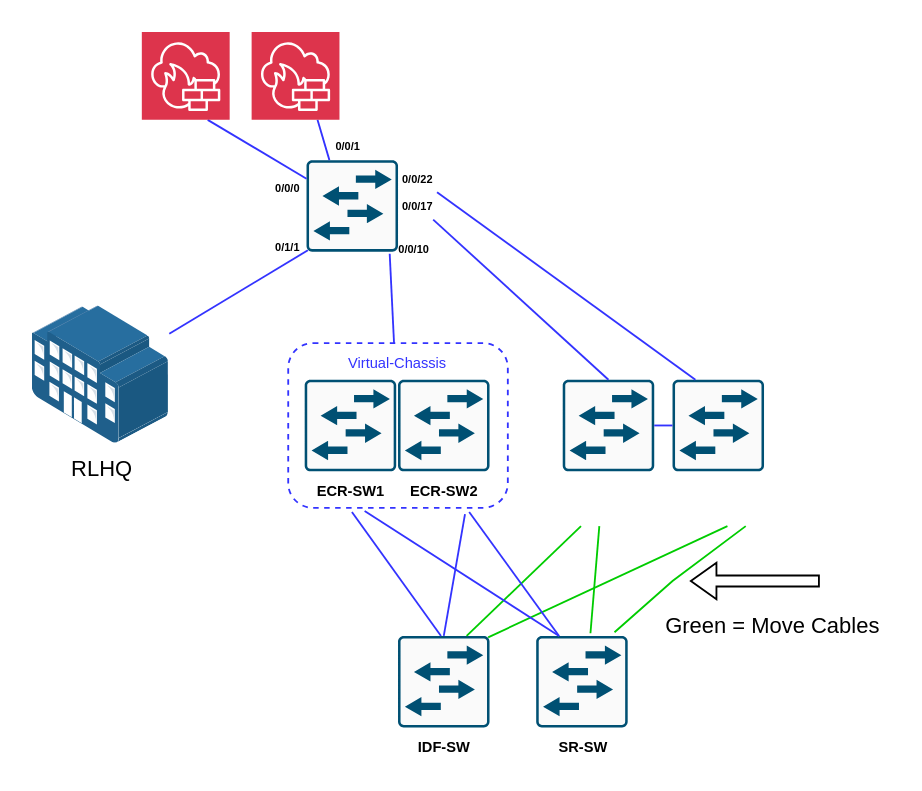
This 922x791 diagram has some shape labels left out. The shapes that lost their labels are listed below. From the top down, each one's centre as x and y in pixels, then its label:
At pixel 351 205: "WAN-SW1".
At pixel 607 424: "NCR-SW1 QFX5120".
At pixel 717 424: "NCR-SW2 QFX5120".
